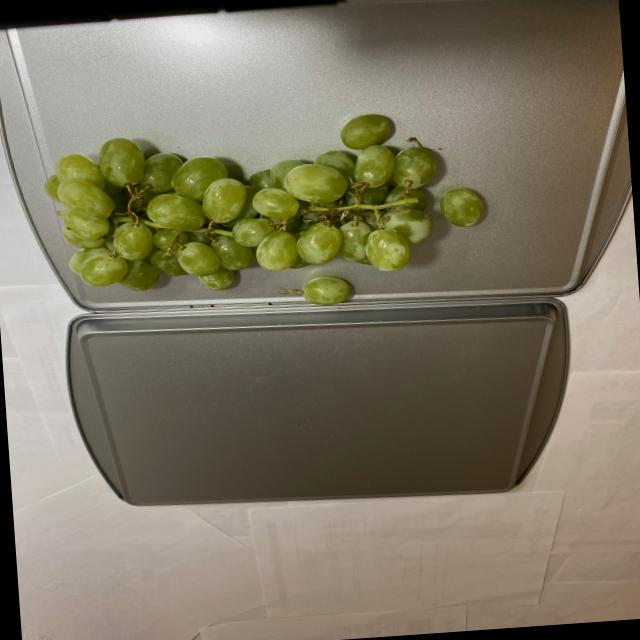grapes: (49, 107, 492, 319)
